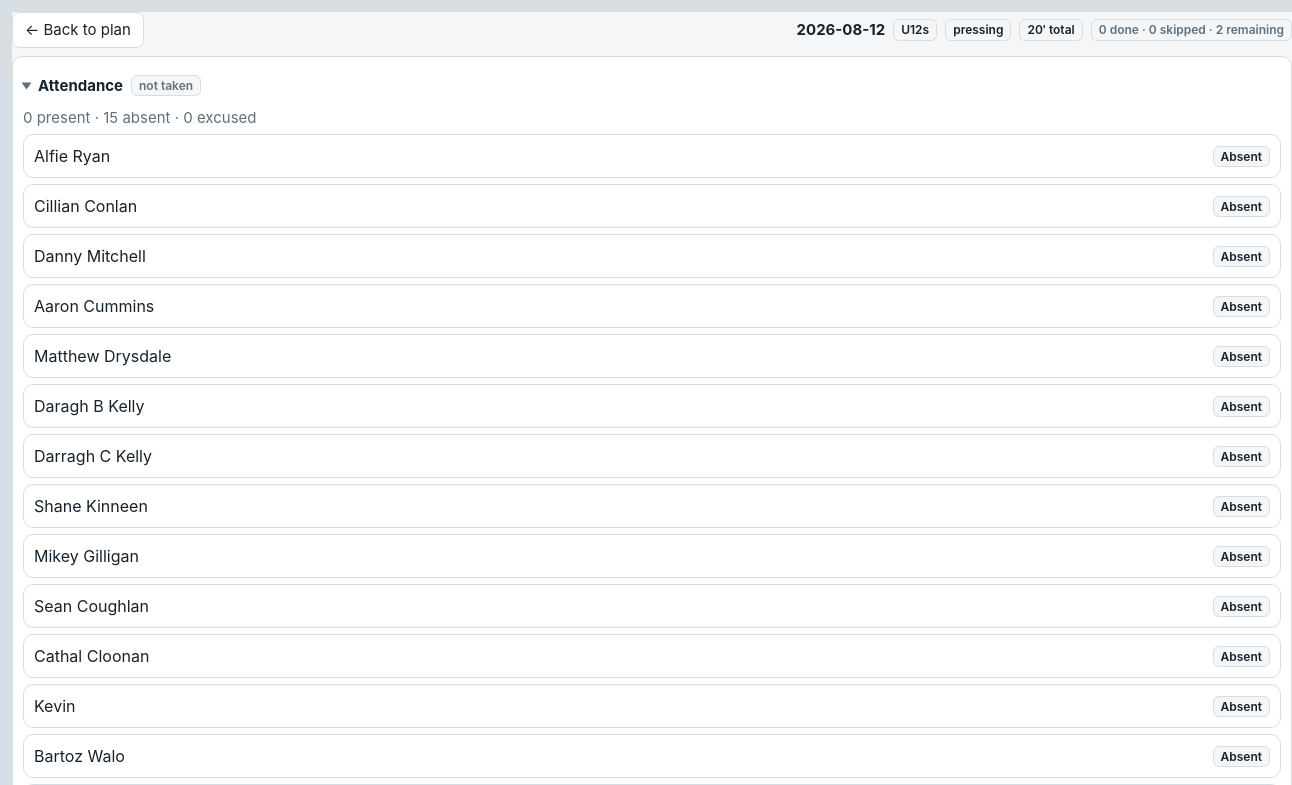
Scenario: SessionRun attendance › settles rather than looping when the session comes back with what was reported
The image size is (1292, 785).
Click the button with class "attendance-row" showing "Mikey Gilligan Absent": [86, 556] box top-left (23, 534), bottom-right (1281, 578)
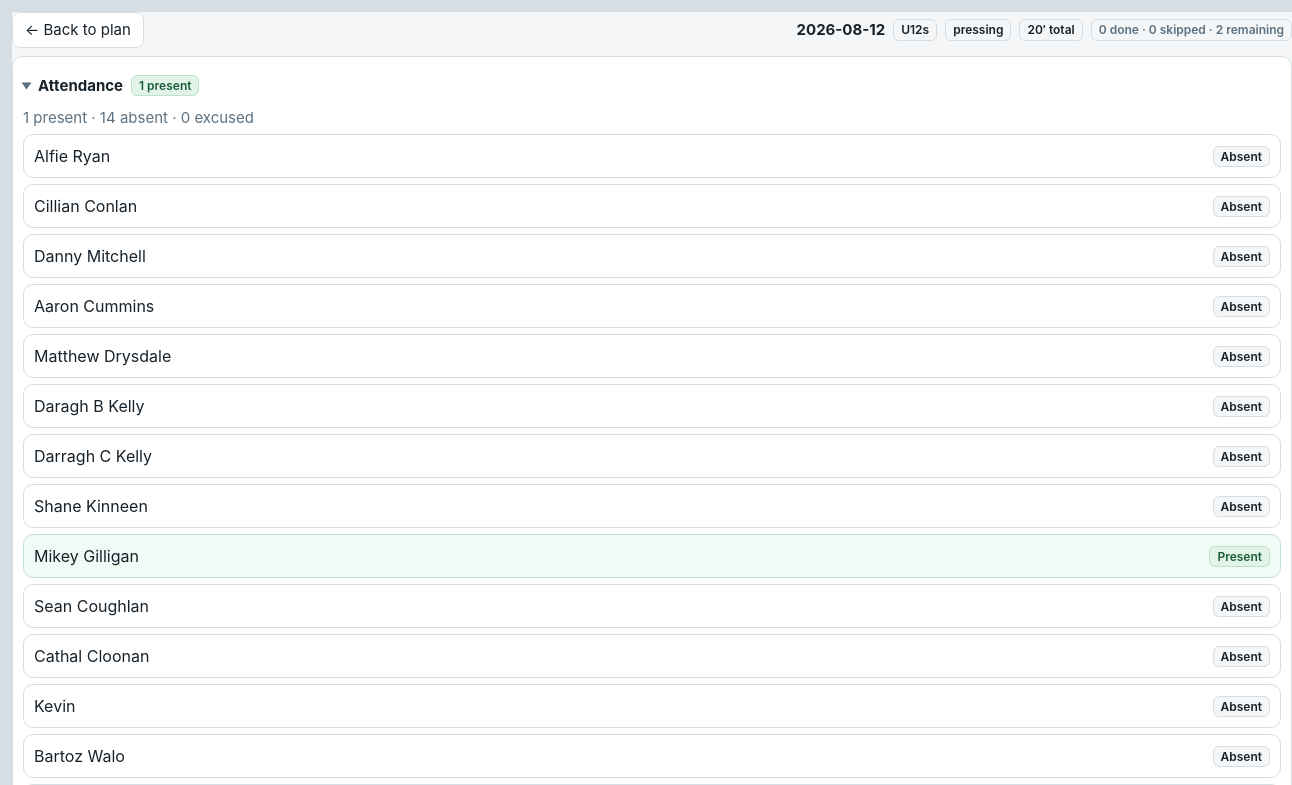
Expected: the button with class "attendance-row" shows "Present", top-left (23, 534), bottom-right (1281, 578)
